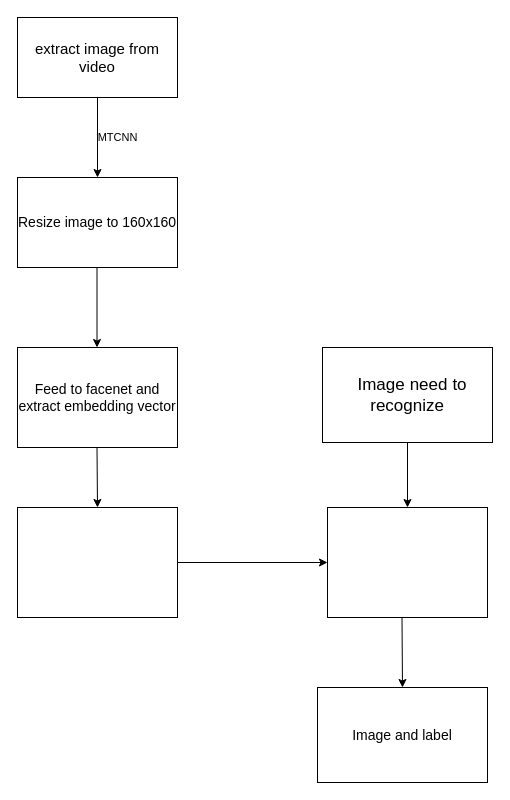
The diagram is 510 pixels wide and 800 high, and some of its shapes have lost their labels. Here are the shapes that lost their labels. From the top down, the box of each, then its label:
(16, 506, 178, 618): Train embedding vectors with SVM classifier
(326, 506, 488, 618): Save model to local
